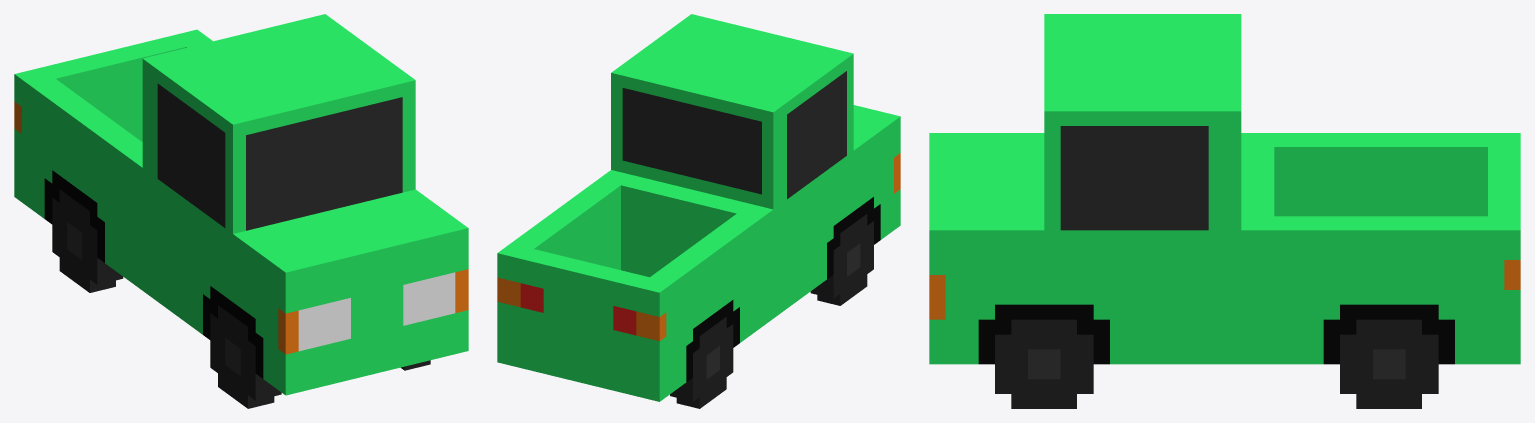
The model's file is kit-voxel-truck-green.glb.
3 renders of one model, left to right at view 1: azimuth 30°, elevation 25°; view 2: azimuth 150°, elevation 25°; view 3: azimuth 270°, elevation 25°, orthographic. The views are drawn at different scales.
Parts seen in each view (by area): view 1: geometry_1; view 2: geometry_1; view 3: geometry_1.
Part boxes in pixels (x1,y1,x2,y2): geometry_1: (14,14,468,408); geometry_1: (497,14,900,408); geometry_1: (929,14,1520,408).
Size of the model in its own units: 1.4 by 2 by 3.6.
1 material, 1 textured.
